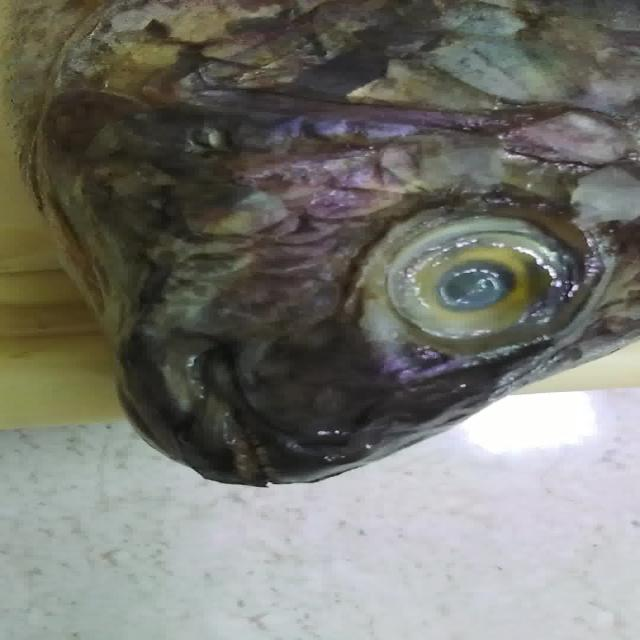Non-Fresh: (375, 217, 567, 353)
